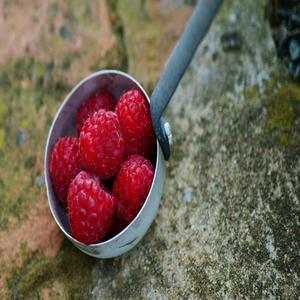raspb: (53, 105, 148, 223)
